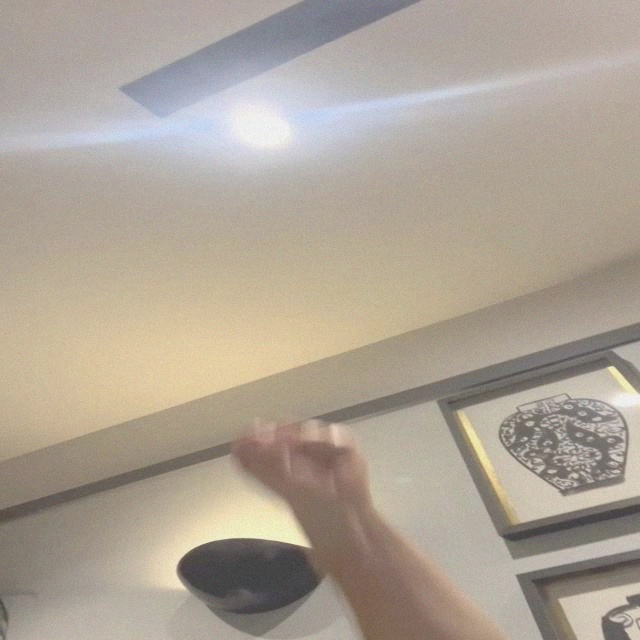Rock: (223, 416, 372, 508)
